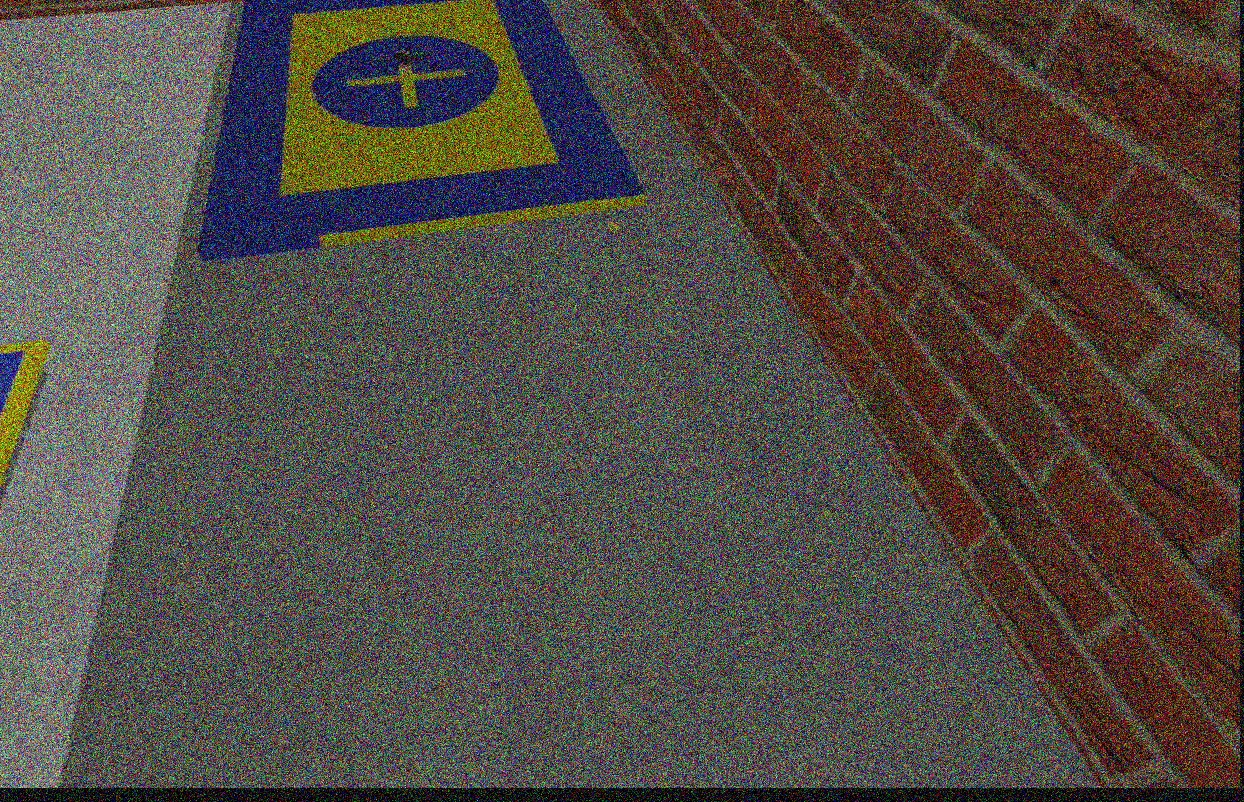large_base: (199, 1, 653, 263)
